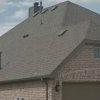Chimney: (24, 2, 47, 25)
